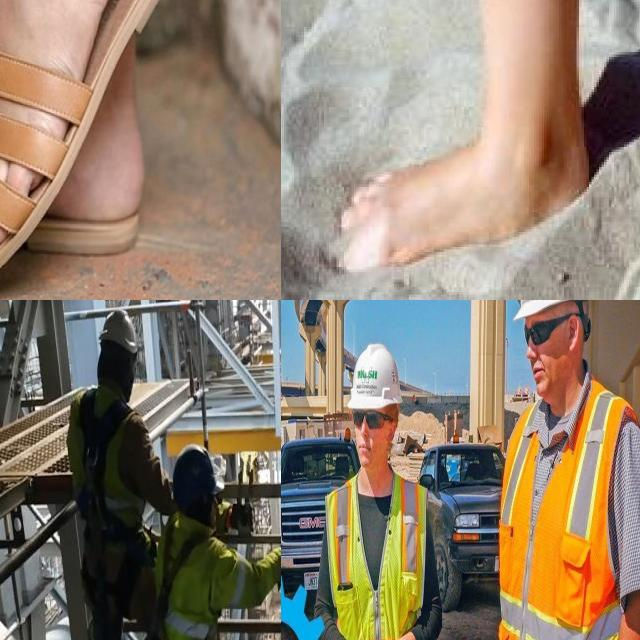Barefoots: (317, 99, 622, 300)
Harness: (76, 388, 130, 530), (153, 512, 212, 640)
Sandals: (0, 0, 181, 291)
face_nomask: (520, 305, 580, 407), (350, 401, 386, 464)
glasses: (519, 316, 553, 351), (350, 407, 386, 433)
head_helmet: (344, 347, 414, 409), (509, 300, 596, 322)
person: (487, 300, 640, 640), (322, 334, 453, 640)
vest: (495, 377, 640, 640), (323, 467, 435, 640)
